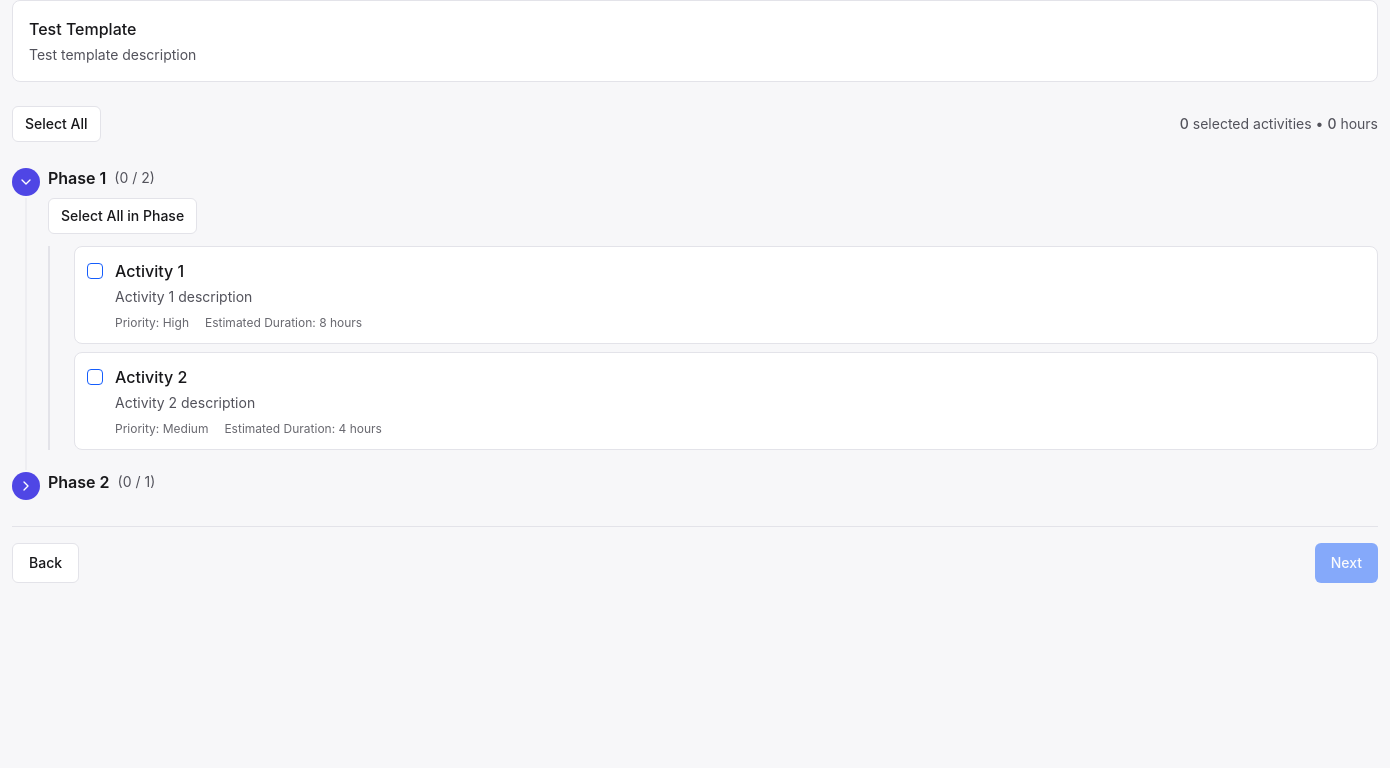
Test case: ActivitySelectionStep › displays activities with checkboxes
expect the text "Phase 1" is shown: met, box [48,166,106,190]
Click the button without text next to "Phase 2".
click(26, 486)  # box [12,472,40,500]
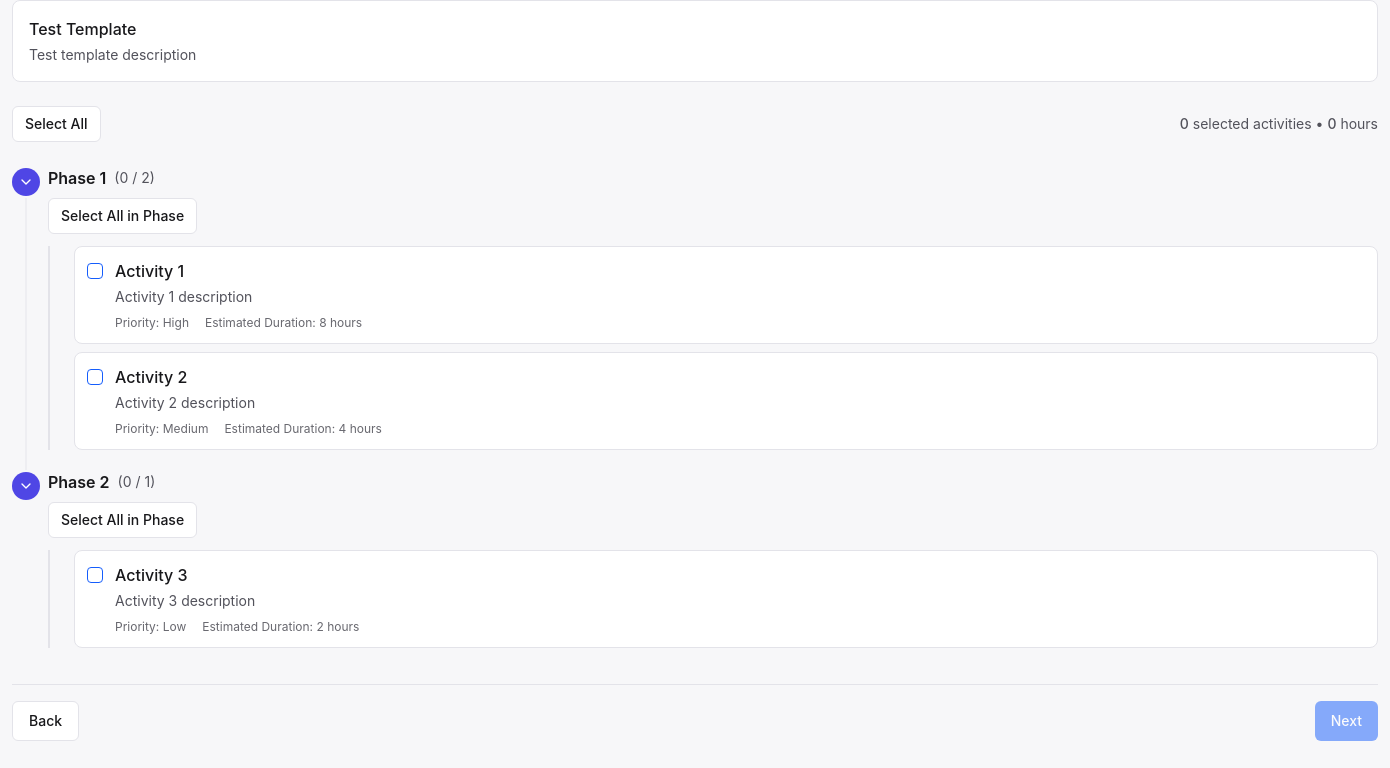
expect the text "Activity 1" is shown: met, box [115,261,184,281]
expect the text "Activity 3" is shown: met, box [115,565,187,585]
